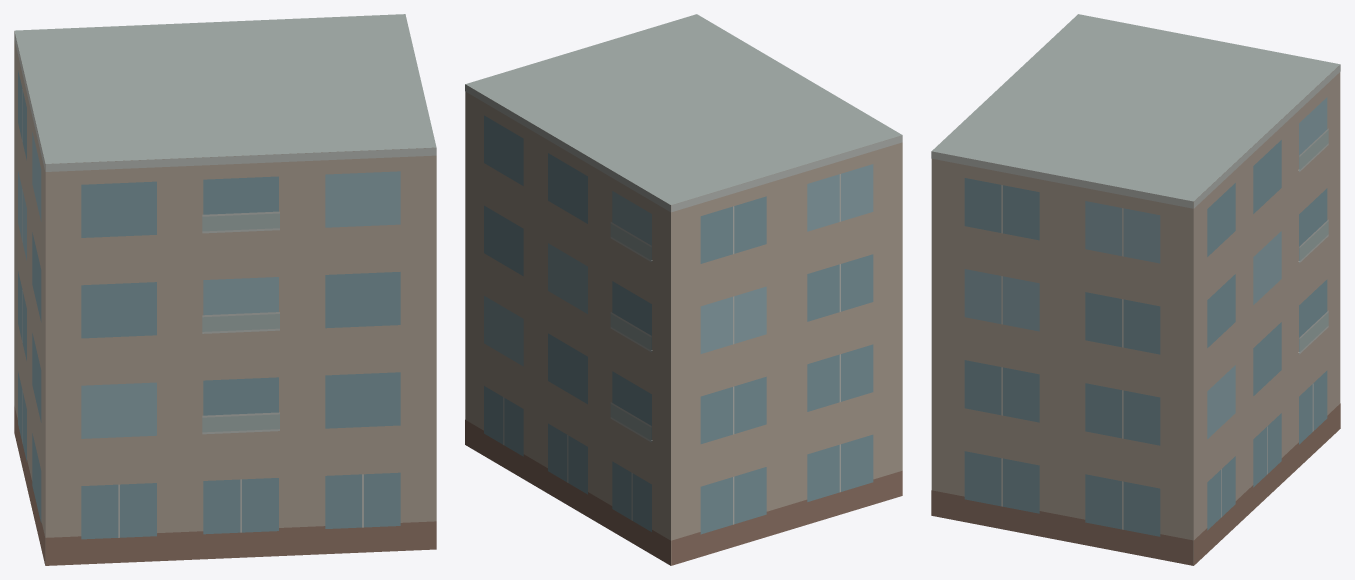
File: survey-upis-32525625.glb
3 views of the same model, side by side, from view 1: azimuth 30°, elevation 25°; view 2: azimuth 150°, elevation 25°; view 3: azimuth 270°, elevation 25° (orthographic). The views are drawn at different scales.
Visible parts, largest first — view 1: survey-upis-32525625.tmp; view 2: survey-upis-32525625.tmp; view 3: survey-upis-32525625.tmp.
Boxes of the visible parts, x1,y1,x2,y2 form: survey-upis-32525625.tmp: (14, 14, 436, 565); survey-upis-32525625.tmp: (465, 14, 902, 565); survey-upis-32525625.tmp: (931, 14, 1340, 565).
Size of the model in its own units: 13.47 by 12.2 by 12.42.
